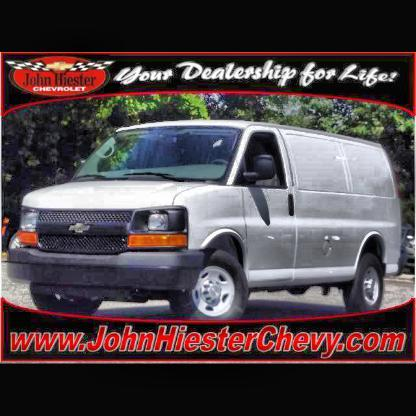Chevrolet Express Cargo Van 2007: (10, 120, 407, 322)
